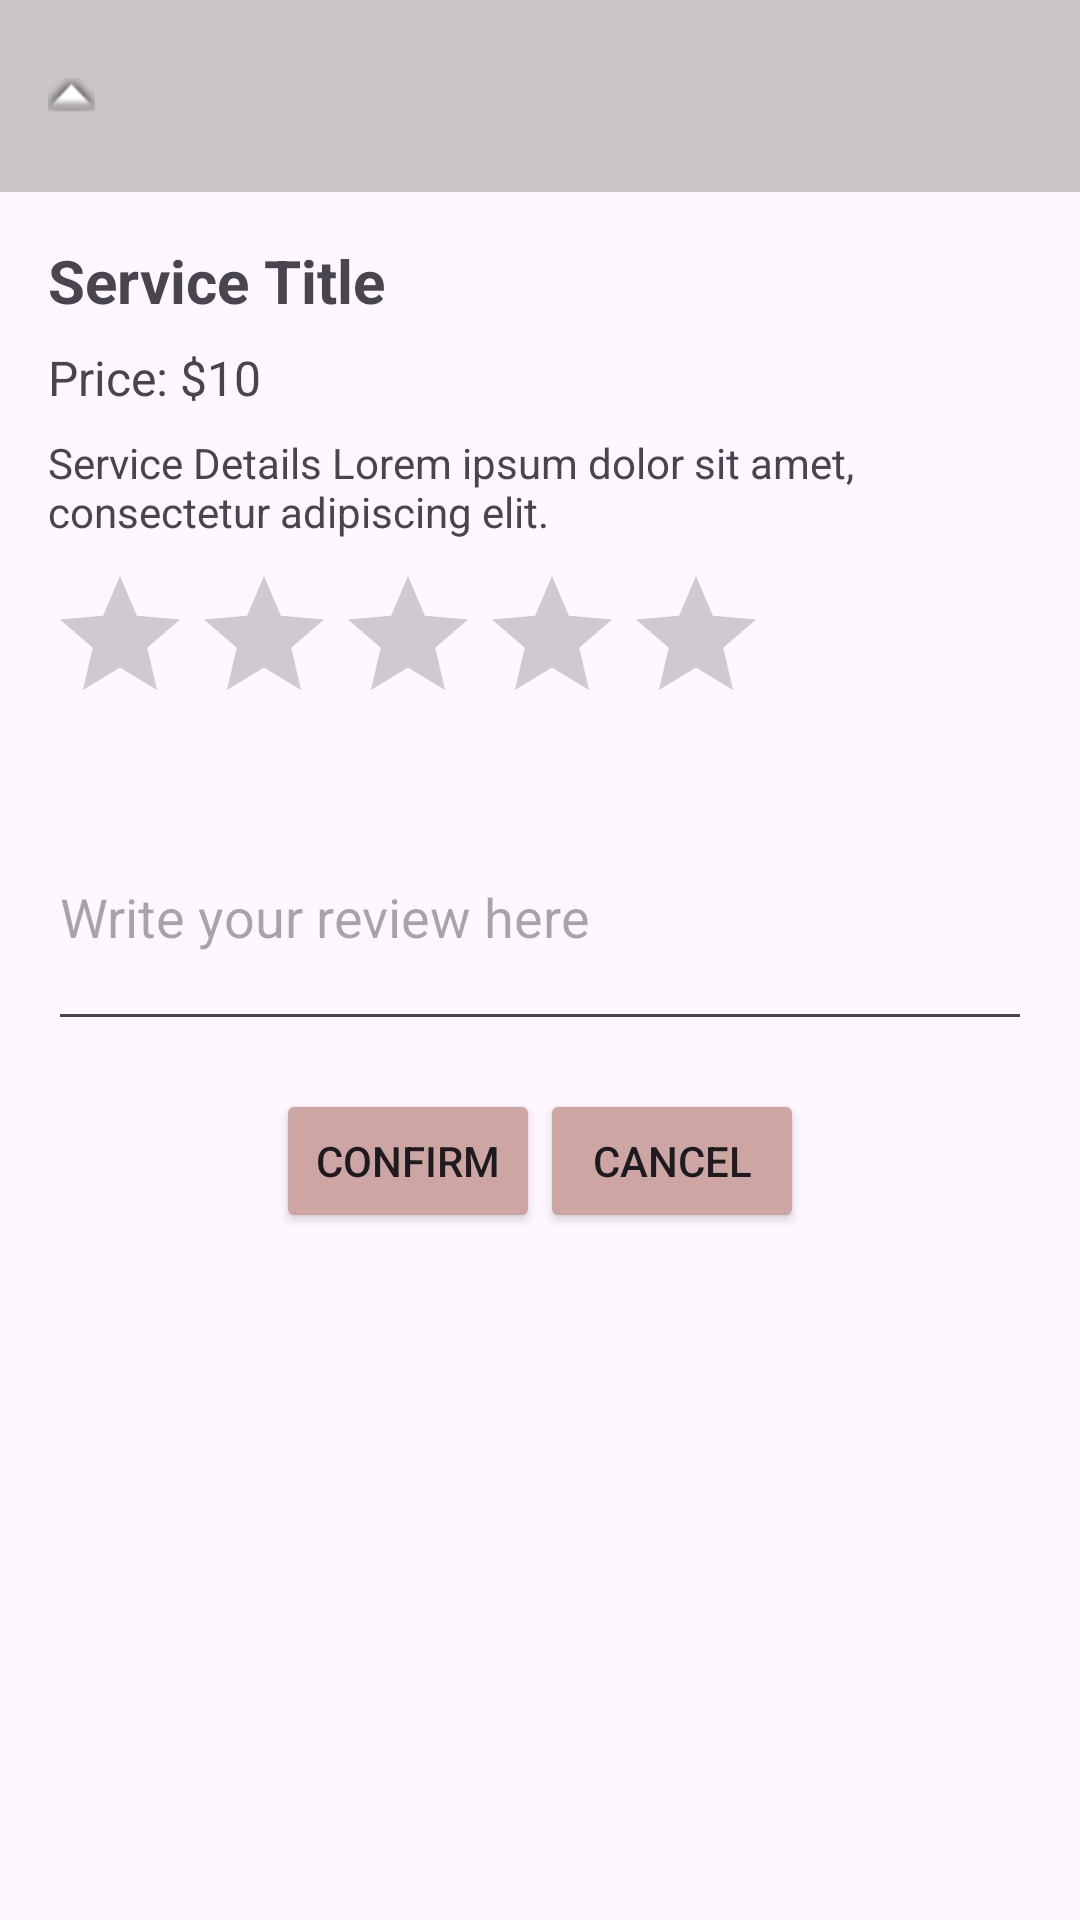

Locate icon controls on the screen. Image size 1080*1920, boxes as (x1, y1, x2, y2).
arrow up float: (48, 80, 95, 111)
